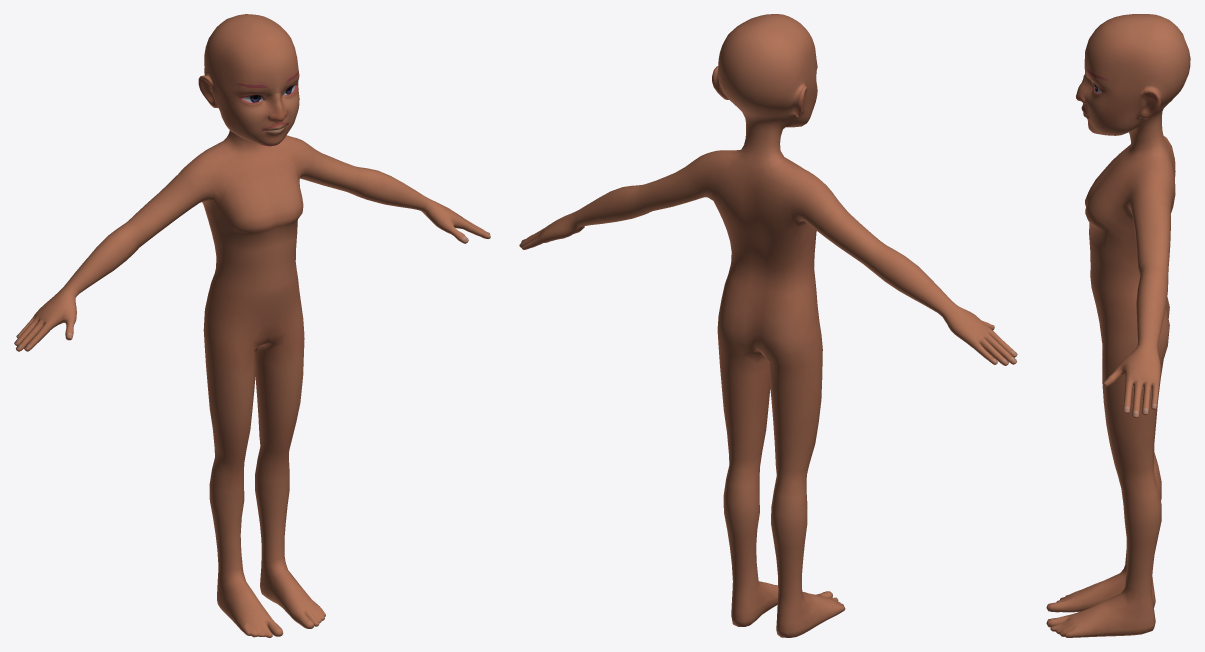
File: frame_0080.glb
3 views of the same model, side by side, from view 1: azimuth 30°, elevation 25°; view 2: azimuth 150°, elevation 25°; view 3: azimuth 270°, elevation 25° (orthographic). The views are drawn at different scales.
Visible parts, largest first — view 1: frame_0080_head_geo; view 2: frame_0080_head_geo; view 3: frame_0080_head_geo.
Part boxes in pixels (x1,y1,x2,y2): frame_0080_head_geo: (14, 14, 490, 637); frame_0080_head_geo: (519, 14, 1017, 637); frame_0080_head_geo: (1046, 14, 1190, 637).
Bounding box in the file's own units: 1.28 × 1.5 × 0.3253.
Materials: 3 (3 with a texture image).
